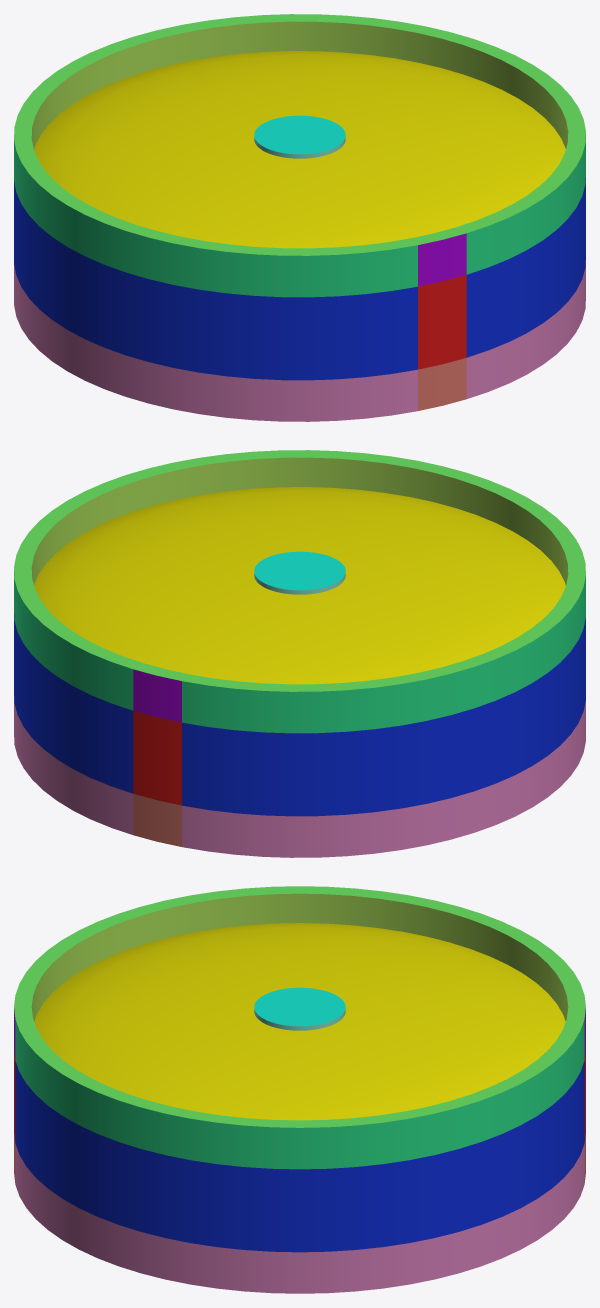
Rendered from ktank1.fbx.
The picture shows the model from 3 angles, top to bottom: view 1: azimuth 30°, elevation 25°; view 2: azimuth 150°, elevation 25°; view 3: azimuth 270°, elevation 25°; orthographic projection.
Parts seen in each view (by area): view 1: top, tank, bottom; view 2: top, tank, bottom; view 3: top, tank, bottom.
Part boxes in pixels (<box>): top: <box>14,14,585,297</box>; tank: <box>14,177,585,380</box>; bottom: <box>14,260,585,421</box>; top: <box>14,450,585,733</box>; tank: <box>14,613,585,816</box>; bottom: <box>14,696,585,857</box>; top: <box>14,886,585,1169</box>; tank: <box>14,1050,585,1252</box>; bottom: <box>14,1133,585,1293</box>.
Bounding box in the file's own units: 10 × 3.2 × 10.
